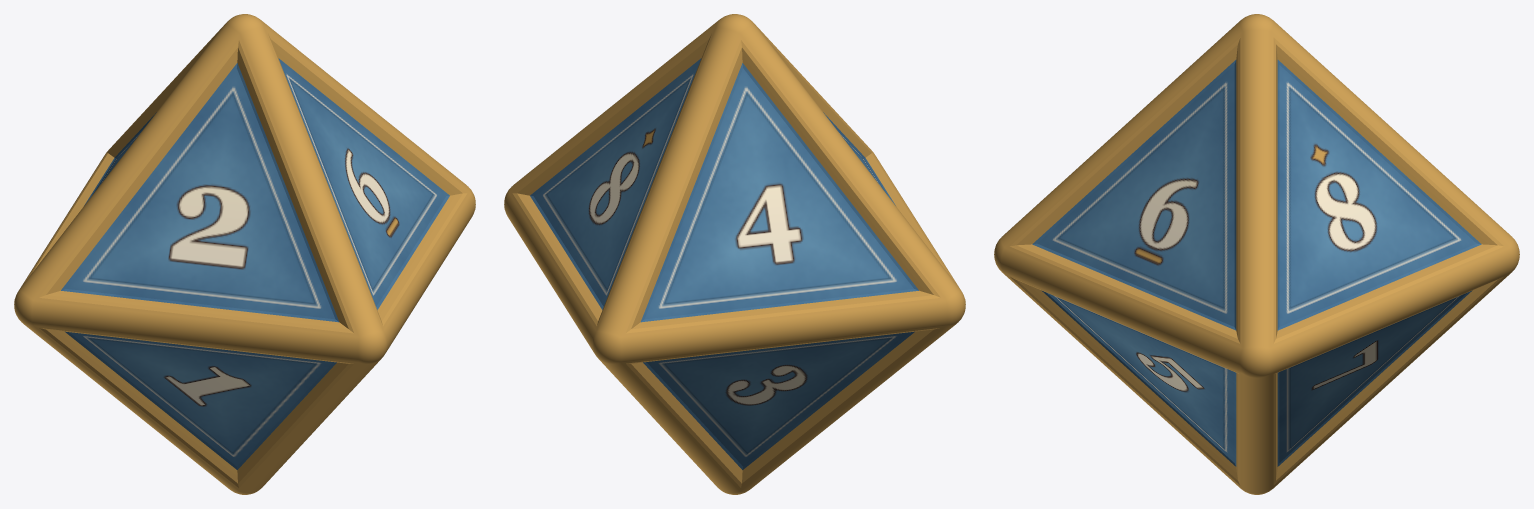
Rendered from d8_skin.glb.
3 views of the same model, side by side, from view 1: azimuth 30°, elevation 25°; view 2: azimuth 150°, elevation 25°; view 3: azimuth 270°, elevation 25° (orthographic).
Visible parts, largest first — view 1: D8 · sea-mist ceramic; view 2: D8 · sea-mist ceramic; view 3: D8 · sea-mist ceramic.
Part boxes in pixels (x1=…): D8 · sea-mist ceramic: x1=14, y1=14, x2=475, y2=494; D8 · sea-mist ceramic: x1=504, y1=14, x2=965, y2=494; D8 · sea-mist ceramic: x1=994, y1=14, x2=1519, y2=494.
Bounding box in the file's own units: 2 × 2 × 2.
Materials: 2 (1 with a texture image).
